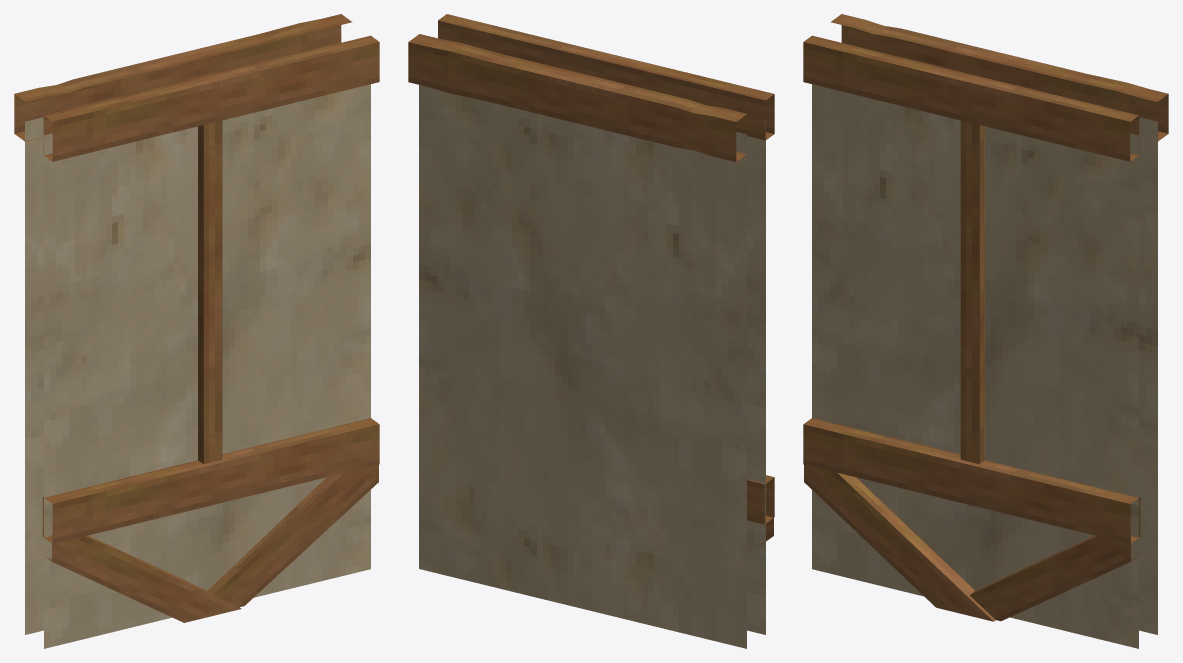
The model's file is wall-Ca-4Ifbm.glb.
3 renders of one model, left to right at view 1: azimuth 30°, elevation 25°; view 2: azimuth 150°, elevation 25°; view 3: azimuth 330°, elevation 25°, orthographic.
Bounding box in the file's own units: 2 × 3.12 × 0.4065.
1 material, 1 textured.
